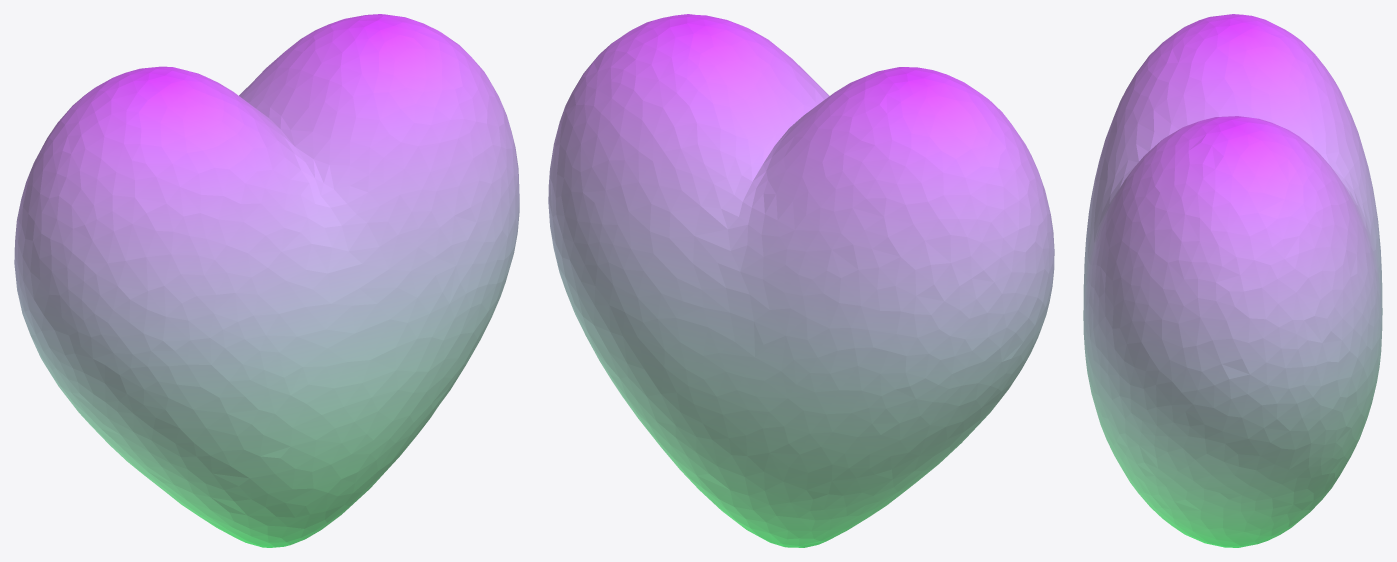
Rendered from 37_cyb_laser_gradient_fish_scales_2910_2026_10_03_b58776.glb.
3 renders of one model, left to right at view 1: azimuth 30°, elevation 25°; view 2: azimuth 150°, elevation 25°; view 3: azimuth 270°, elevation 25°, orthographic. The views are drawn at different scales.
Parts seen in each view (by area): view 1: geometry_0; view 2: geometry_0; view 3: geometry_0.
Part boxes in pixels (x1=…): geometry_0: x1=14, y1=14, x2=519, y2=547; geometry_0: x1=548, y1=14, x2=1054, y2=547; geometry_0: x1=1083, y1=14, x2=1382, y2=547.
Size of the model in its own units: 1 by 1 by 0.578.
